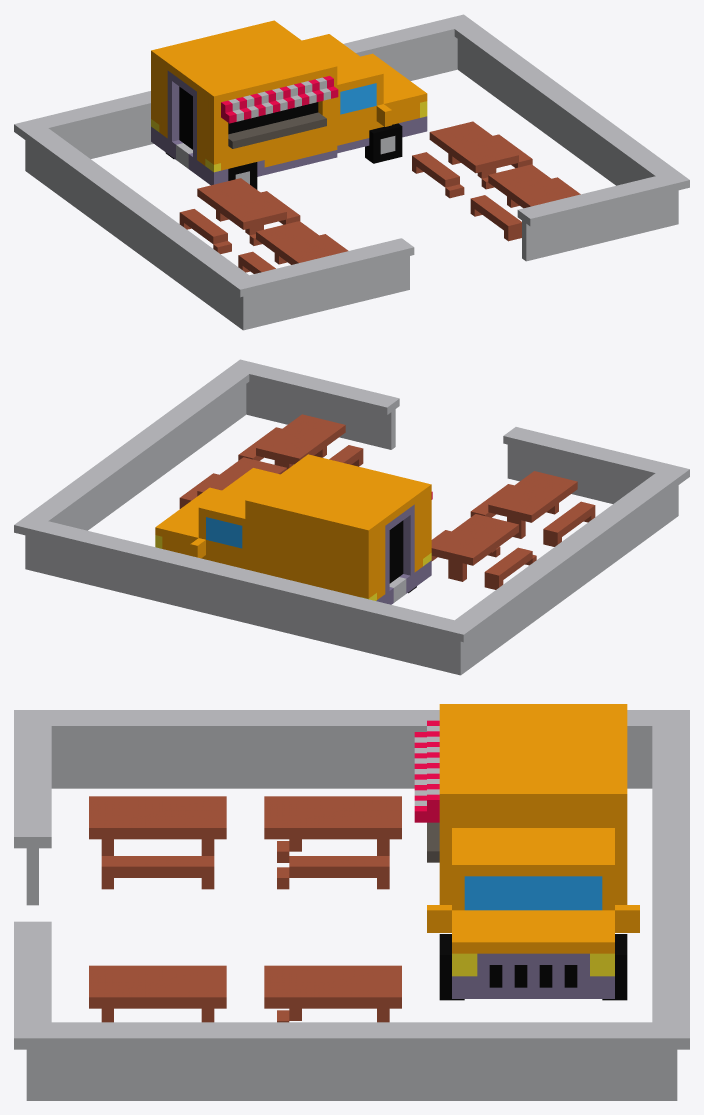
The model's file is foodtruck_spot_b.obj.
The picture shows the model from 3 angles, top to bottom: view 1: azimuth 30°, elevation 25°; view 2: azimuth 150°, elevation 25°; view 3: azimuth 270°, elevation 25°; orthographic projection. The views are drawn at different scales.
Size of the model in its own units: 6.2 by 1.4 by 5.4.
Materials: 1 (1 with a texture image).
